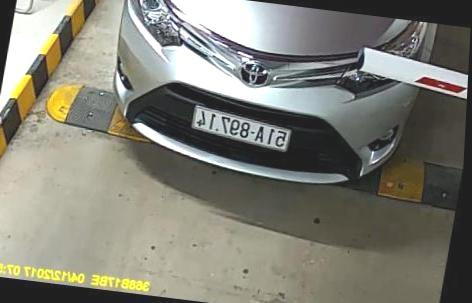License_Plate: (182, 104, 295, 161)
